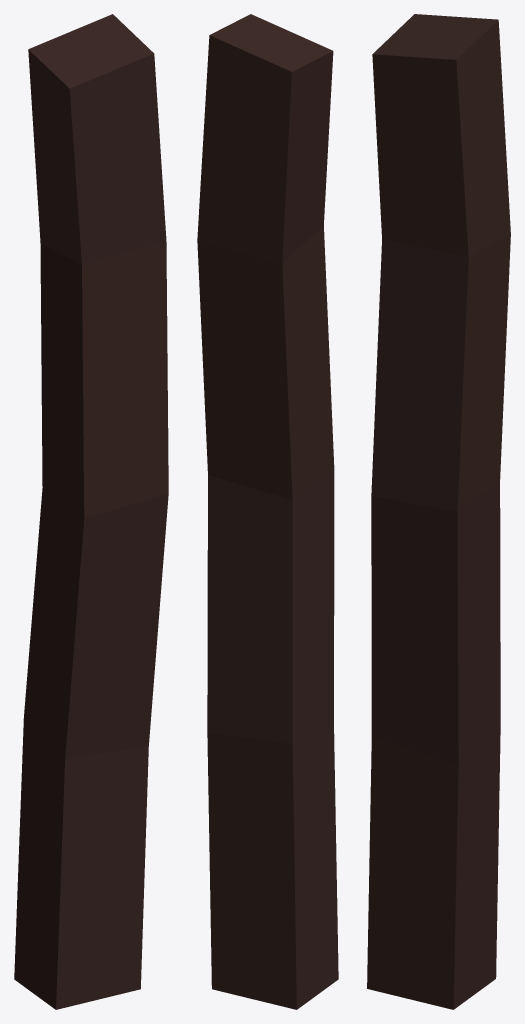
File: fence_post3.fbx
3 views of the same model, side by side, from view 1: azimuth 30°, elevation 25°; view 2: azimuth 150°, elevation 25°; view 3: azimuth 330°, elevation 25° (orthographic).
Parts seen in each view (by area): view 1: fence_p2; view 2: fence_p2; view 3: fence_p2.
Part boxes in pixels (x1,y1,x2,y2): fence_p2: [14, 14, 168, 1009]; fence_p2: [197, 14, 338, 1009]; fence_p2: [367, 14, 510, 1009].
Bounding box in the file's own units: 0.1125 × 0.9692 × 0.0997.
